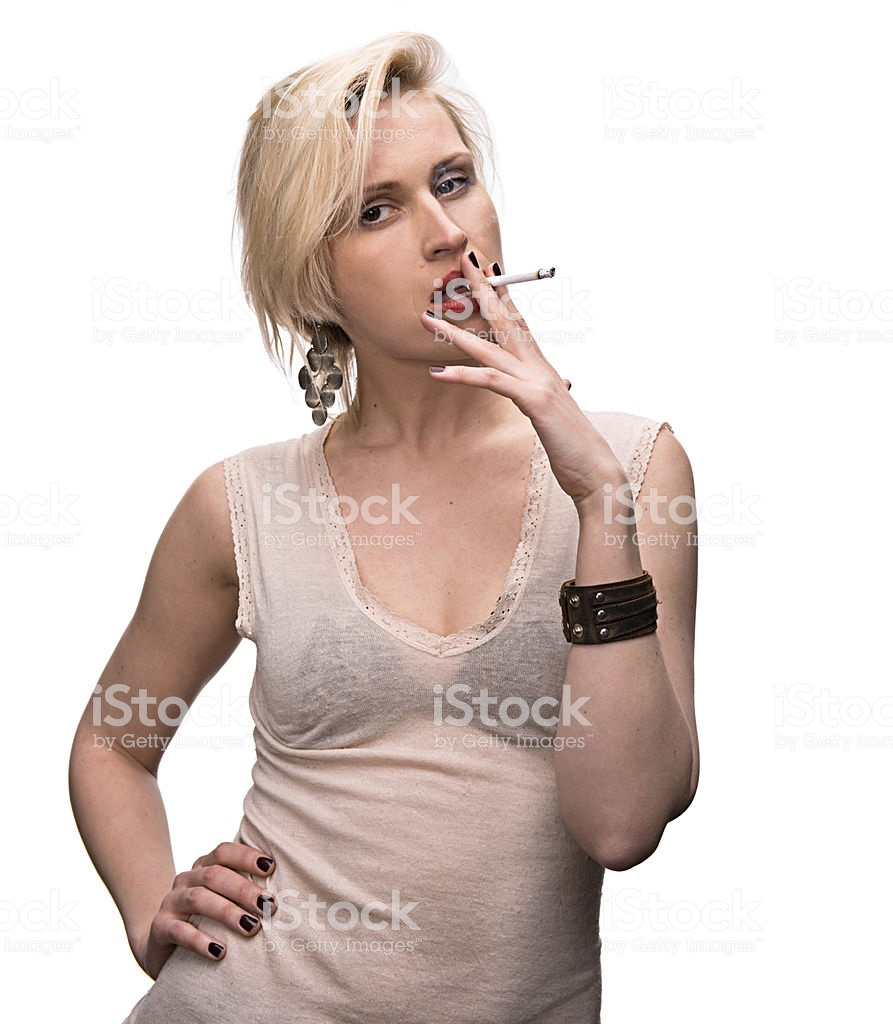sigaretta: (474, 261, 558, 297)
